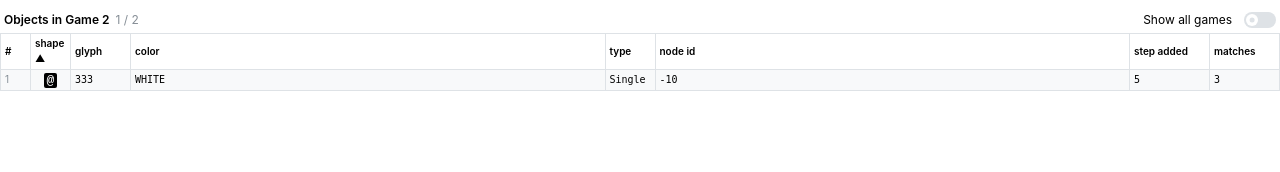
Test case: AllObjects filter visibility (BUG-H3 / BUG-M2) › clicking 'Show all games' switches to the unfiltered dataset
The image size is (1280, 172).
Expected: the text "." is not shown
Click the switch labelled "Show all games" at (1210, 20), box [1143,12,1276,28]
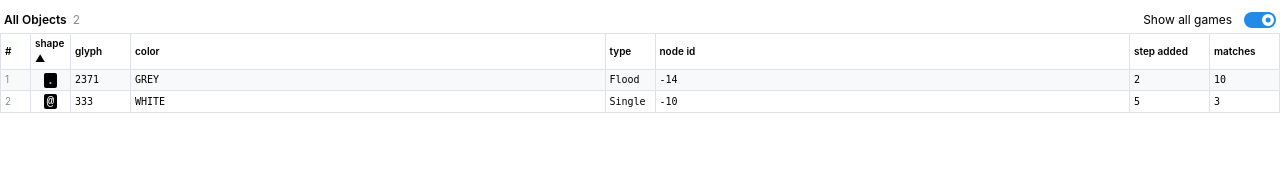
Now the button "." is shown, box [44,73,57,88]
